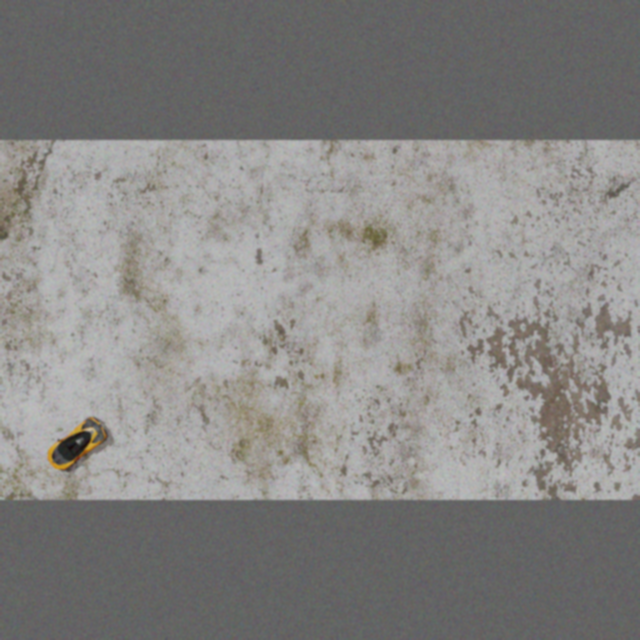car: (36, 411, 114, 478)
